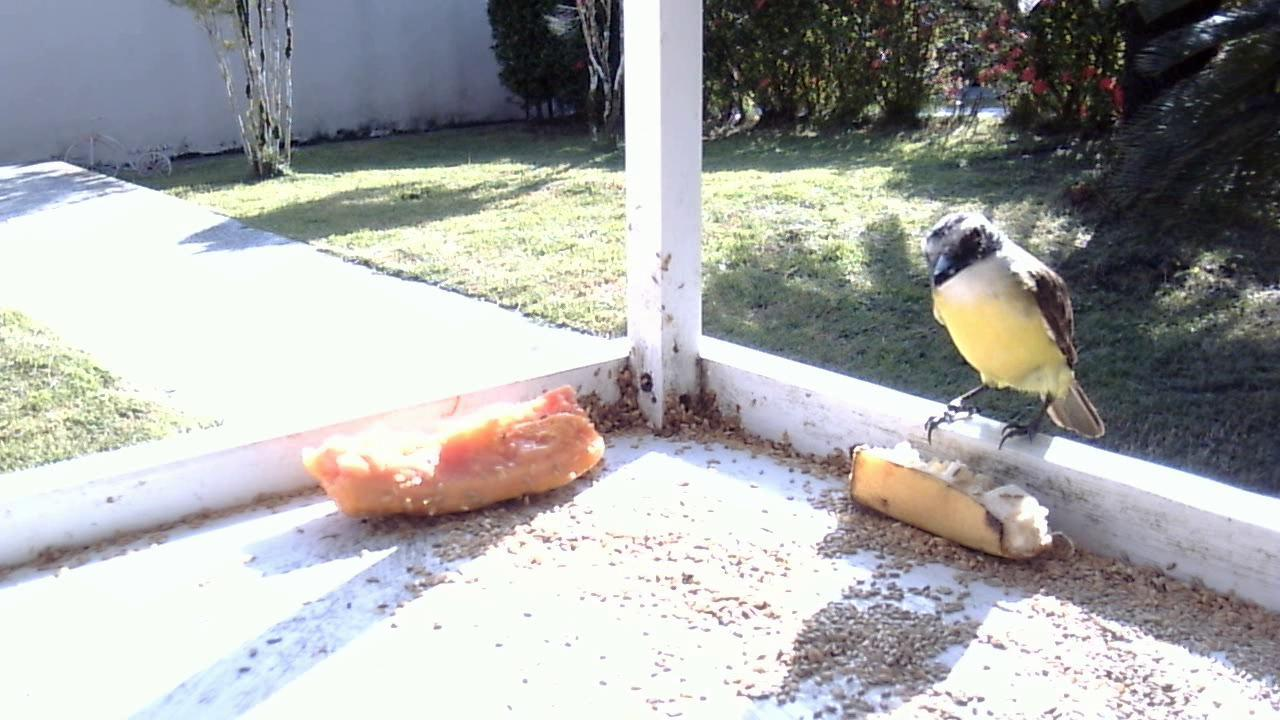bem_te_vi: (907, 206, 1111, 460)
